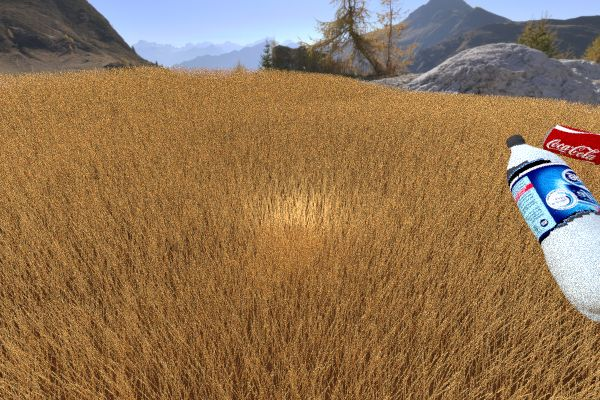bottle: (506, 134, 600, 325)
can: (542, 124, 600, 165)
